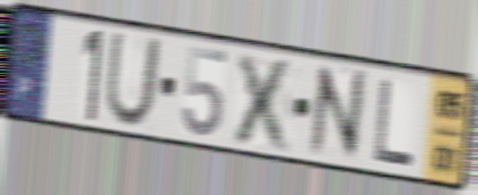1: (81, 27, 105, 125)
5: (180, 43, 229, 140)
L: (373, 75, 417, 171)
N: (307, 61, 368, 162)
U: (102, 30, 165, 131)
X: (228, 48, 299, 156)
